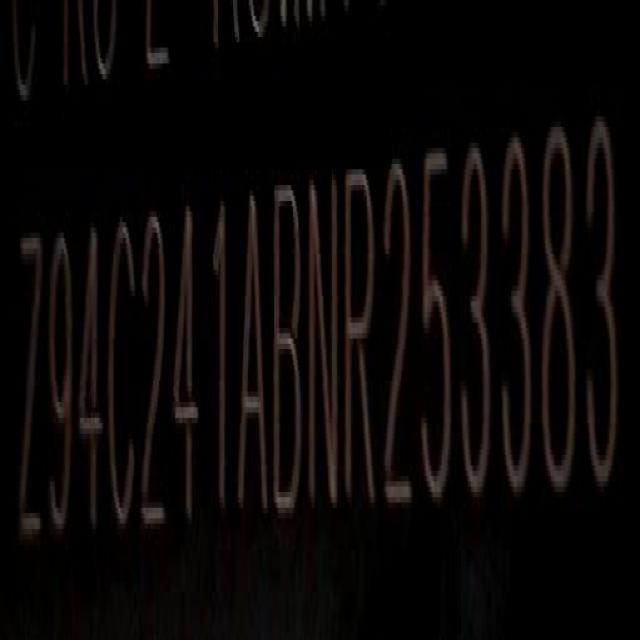1: (211, 197, 232, 538)
2: (385, 154, 417, 520), (138, 209, 168, 551)
3: (500, 133, 536, 507), (589, 111, 623, 498), (462, 140, 494, 510)
4: (79, 213, 109, 547), (176, 201, 205, 545)
5: (420, 141, 452, 512)
8: (543, 116, 578, 500)
9: (49, 229, 76, 556)
A: (238, 186, 271, 534)
B: (277, 175, 307, 529)
C: (110, 218, 138, 550)
N: (308, 167, 342, 522)
R: (344, 165, 380, 519)
Z: (18, 226, 46, 562)
